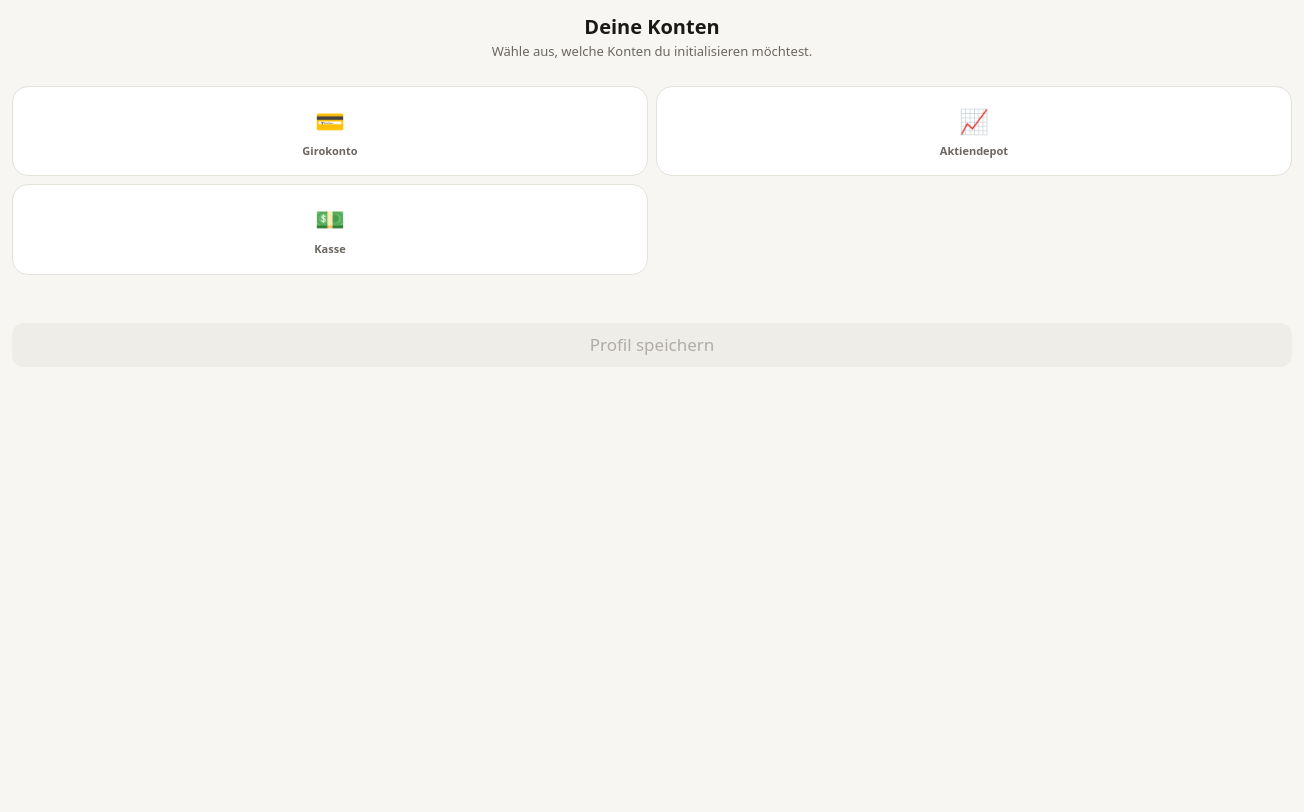
Test: ProfileCreationForm - Error Handling (Toast) › displays a validation error toast when trying to submit without accounts, and clears on close
# Submit without any accounts (by-passing disabled button by submitting the form directly)
Submit the form "Profil speichern", box [12, 322, 1292, 366]
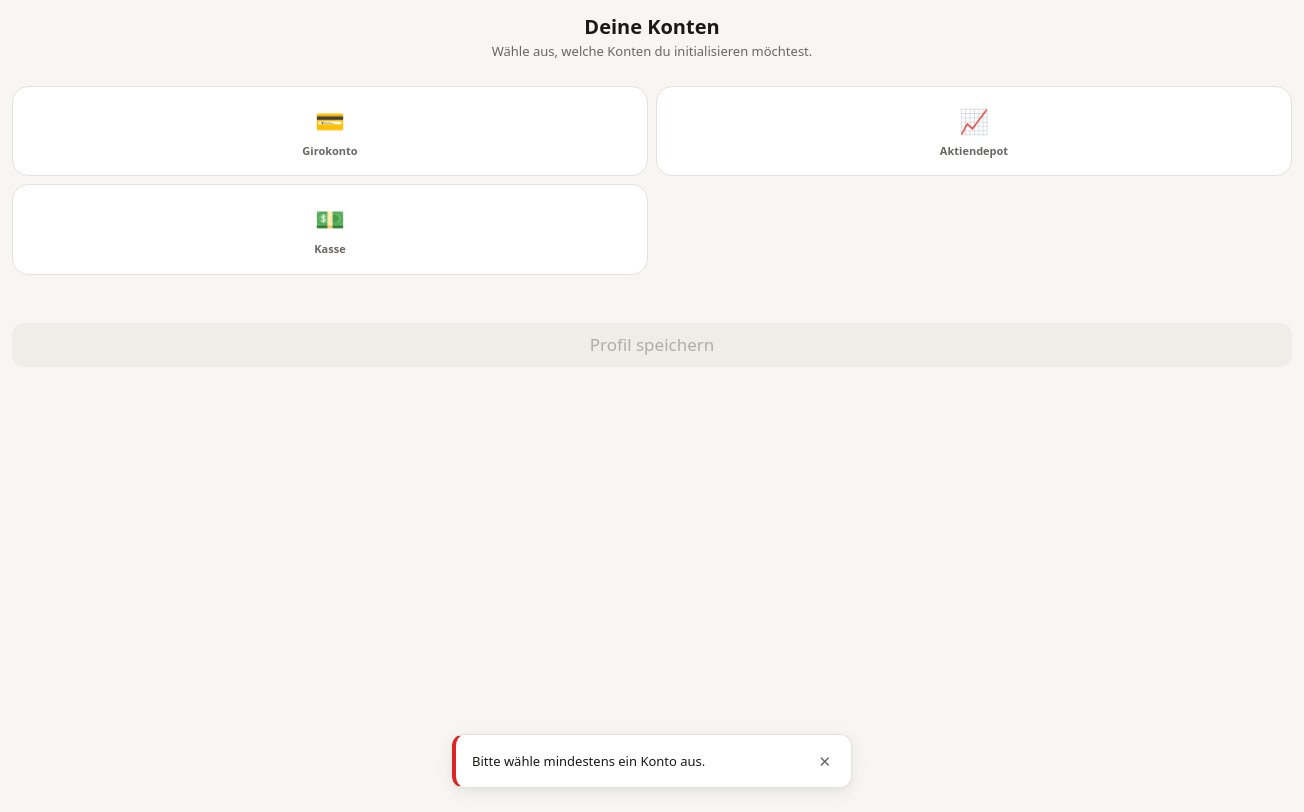
Expected: the text "Bitte wähle mindestens ein Konto aus." is shown, [472, 752, 705, 770]
# Click close button on the toast
Click the button named "schließen".
click(825, 761)  # box [814, 747, 835, 775]
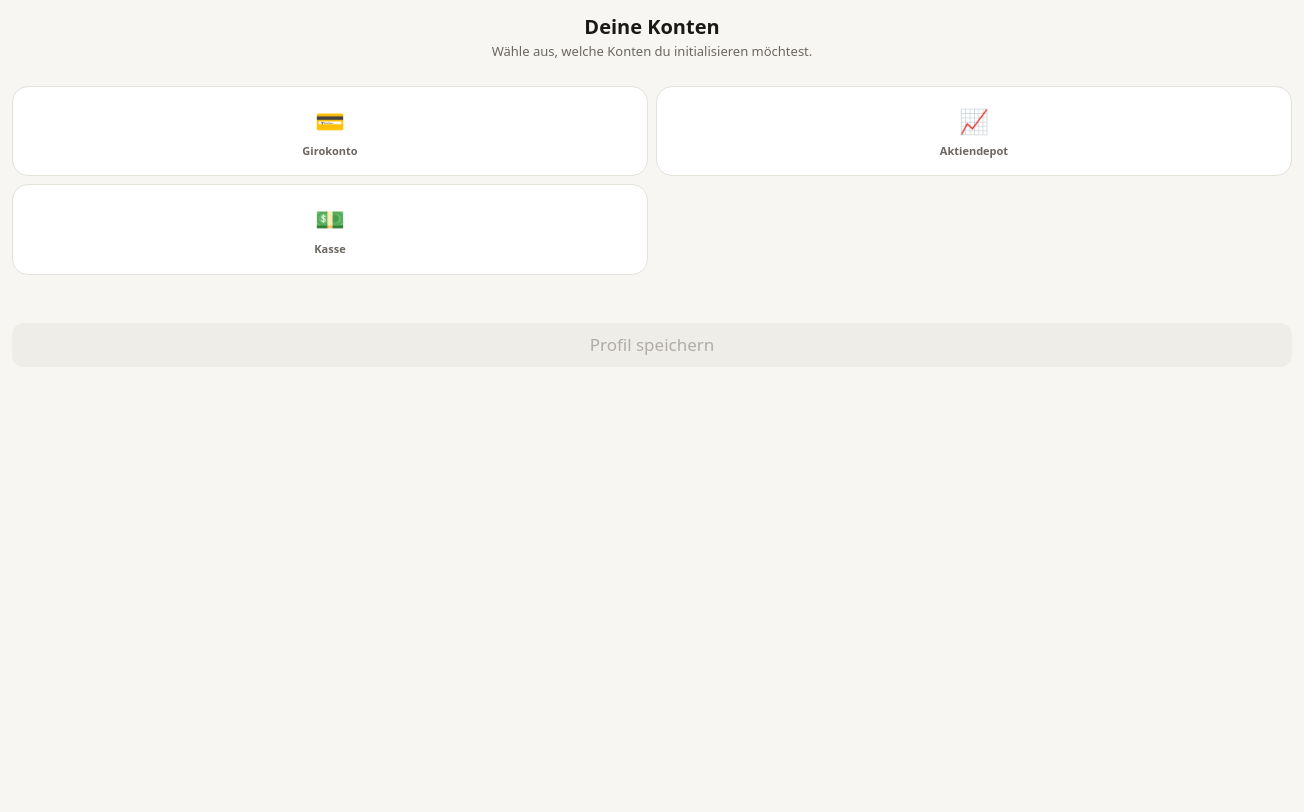
Expected: the text "Bitte wähle mindestens ein Konto aus." is gone
